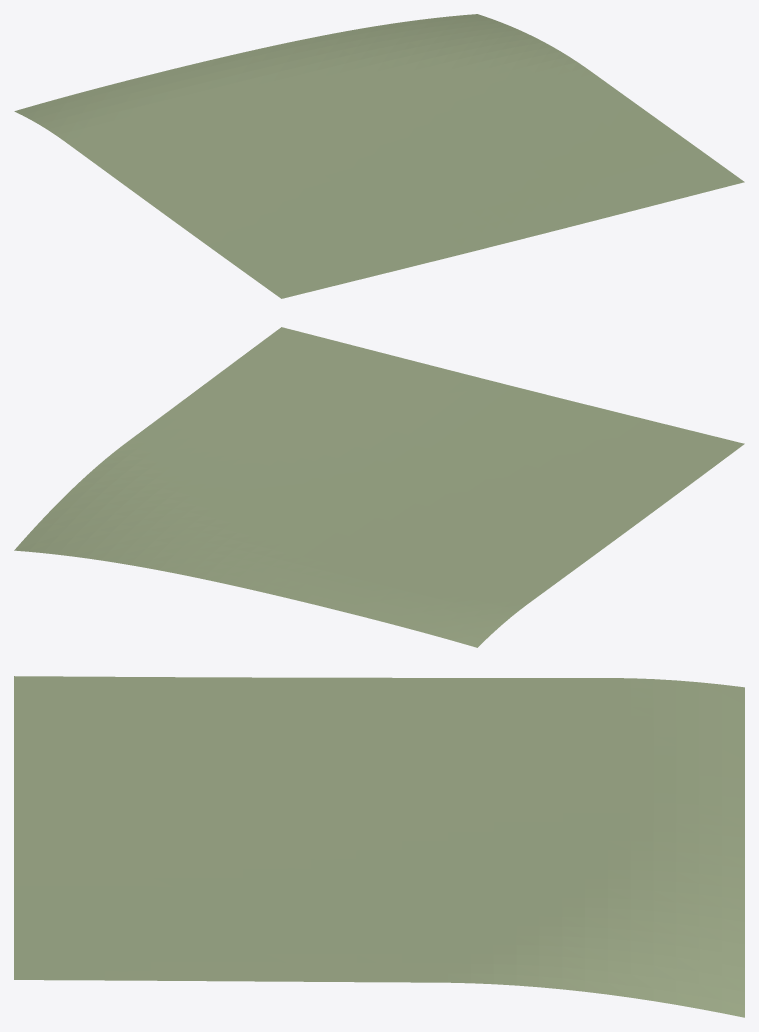
File: desert-20-16.glb
The picture shows the model from 3 angles, top to bottom: view 1: azimuth 30°, elevation 25°; view 2: azimuth 150°, elevation 25°; view 3: azimuth 270°, elevation 25°; orthographic projection. The views are drawn at different scales.
Visible parts, largest first — view 1: desert-20-16; view 2: desert-20-16; view 3: desert-20-16.
Part boxes in pixels (<box>): desert-20-16: <box>14,14,744,298</box>; desert-20-16: <box>14,327,744,647</box>; desert-20-16: <box>14,676,744,1017</box>.
Bounding box in the file's own units: 512 × 29.22 × 512.
